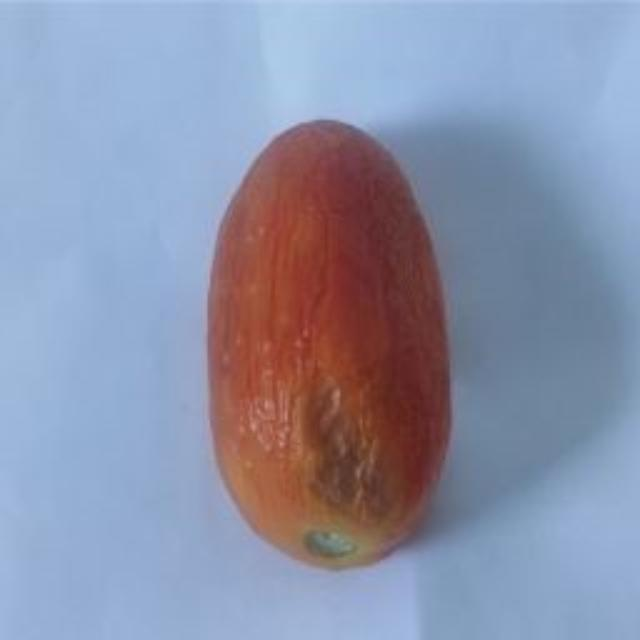defect: (200, 114, 459, 575)
